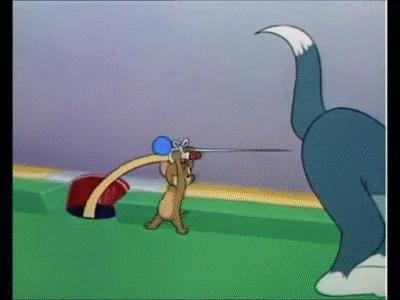jerry: (143, 145, 197, 235)
